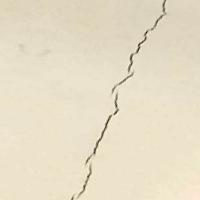crack: (72, 0, 170, 199)
